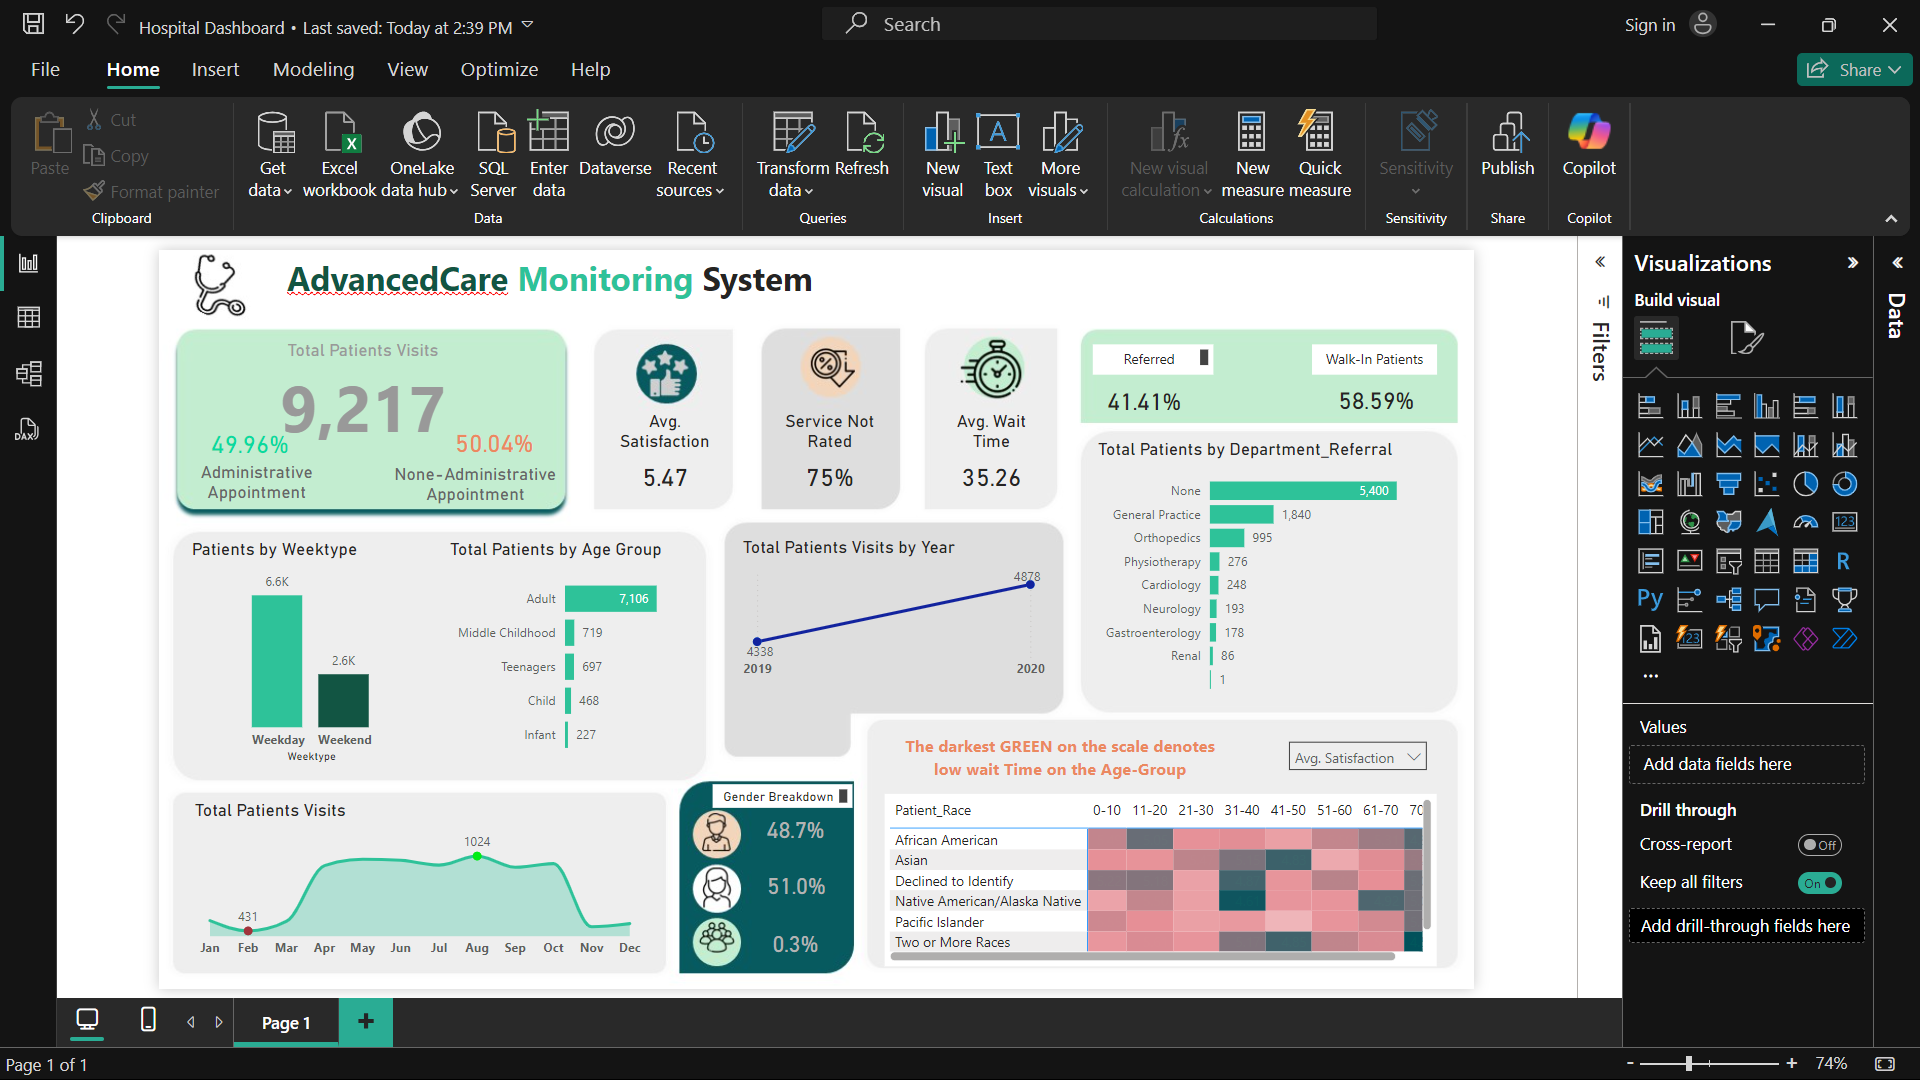

What the dashboard file says about the page in this screenshot:
{"tool":"powerbi","page":{"name":"Page 1","canvas":[1280,720],"ordinal":0},"visuals":[{"type":"card","title":"Total Patients Visits","fields":{"Values":["calculations.Total Patients"]},"box":[89.2,87.8,218.9,104.1],"z":0},{"type":"card","fields":{"Values":["calculations.% Administrative Schedule"]},"box":[270.3,167.6,112.2,39.2],"z":1000},{"type":"card","fields":{"Values":["calculations.% None - Administrative Schedule"]},"box":[44.6,164.9,87.8,47.3],"z":2000},{"type":"card","fields":{"Values":["calculations.% Refered Patients"]},"box":[909.5,129.7,100,35.1],"z":3000},{"type":"card","fields":{"Values":["calculations.% Un Refered Patients"]},"box":[1125.7,128.4,118.9,36.5],"z":4000},{"type":"pivotTable","fields":{"Values":["Patients Dataset.Average Satisfaction Score"],"Rows":["Patients Dataset.Patient_Race"],"Columns":["Patients Dataset.Age Buckets"]},"box":[706.8,529.7,537.8,167.6],"z":5000},{"type":"slicer","fields":{"Values":["Parameter.Parameter"]},"box":[1090.5,468.9,154.1,51.4],"z":6000},{"type":"clusteredBarChart","fields":{"Category":["Patients Dataset.Age Group"],"Y":["calculations.Total Patients"]},"box":[278.4,281.1,241.9,223],"z":7000},{"type":"areaChart","title":"Total Patients Visits ","fields":{"Category":["Date.Month"],"Y":["calculations.Total Patients","Patients Dataset.Values Max Point (Month)"]},"box":[29.7,535.1,448.6,162.2],"z":8000},{"type":"lineChart","title":"Total Patients Visits by Year","fields":{"Y":["calculations.Total Patients","calculations.Values Max Point (Year)"],"Category":["Date.Year"]},"box":[563.5,279.7,304.1,145.9],"z":9000},{"type":"barChart","fields":{"Y":["calculations.Total Patients"],"Category":["Patients Dataset.Department_Referral"]},"box":[909.5,183.8,335.1,258.1],"z":10000},{"type":"card","fields":{"Values":["calculations.HitMap Caption"]},"box":[697.3,460.8,360.8,64.9],"z":11000},{"type":"textbox","box":[24.3,201.4,141.9,52.7],"z":12000},{"type":"textbox","box":[216.2,202.7,183.8,50],"z":13000},{"type":"card","title":"Avg. Satisfaction","fields":{"Values":["Patients Dataset.Average Satisfaction Score"]},"box":[436.5,156.8,112.2,89.2],"z":14000},{"type":"card","title":"Avg. Wait Time","fields":{"Values":["calculations.Average Wait Time"]},"box":[754.1,156.8,113.5,89.2],"z":15000},{"type":"card","title":"Service Not Rated","fields":{"Values":["calculations.% No Rating"]},"box":[600,156.8,106.8,89.2],"z":16000},{"type":"textbox","box":[909.5,91.9,117.6,29.7],"z":17000},{"type":"textbox","box":[1123,91.9,121.6,29.7],"z":18000},{"type":"clusteredColumnChart","title":"Patients by Weektype","fields":{"Y":["calculations.Total Patients"],"Category":["Date.Weektype"]},"box":[27,281.1,243.2,223],"z":19000},{"type":"card","fields":{"Values":["calculations.% Female Visit"]},"box":[583.8,547.3,71.6,35.1],"z":20000},{"type":"card","fields":{"Values":["calculations.% Male Visit"]},"box":[583.8,601.4,73,36.5],"z":21000},{"type":"card","fields":{"Values":["calculations.% Unknown"]},"box":[583.8,654.1,71.6,43.2],"z":22000},{"type":"textbox","box":[539.2,520.3,136.5,23],"z":23000},{"type":"textbox","box":[95.9,0,771.6,64.9],"z":23001}]}

Visuals, with their boxes on the page's 1280x720 design canvas (x1, y1, x2, y2). These are canvas units, not pixel positions in the 1920x1080 screenshot, which may show the page scaled, cropped or inside an application window:
"Total Patients Visits" card: (left=89, top=88, right=308, bottom=192)
card - calculations.% Administrative Schedule: (left=270, top=168, right=382, bottom=207)
card - calculations.% None - Administrative Schedule: (left=45, top=165, right=132, bottom=212)
card - calculations.% Refered Patients: (left=910, top=130, right=1010, bottom=165)
card - calculations.% Un Refered Patients: (left=1126, top=128, right=1245, bottom=165)
pivotTable - Patients Dataset.Average Satisfaction Score x Patients Dataset.Patient_Race: (left=707, top=530, right=1245, bottom=697)
slicer - Parameter.Parameter: (left=1090, top=469, right=1245, bottom=520)
clusteredBarChart - Patients Dataset.Age Group x calculations.Total Patients: (left=278, top=281, right=520, bottom=504)
"Total Patients Visits " areaChart: (left=30, top=535, right=478, bottom=697)
"Total Patients Visits by Year" lineChart: (left=564, top=280, right=868, bottom=426)
barChart - calculations.Total Patients x Patients Dataset.Department_Referral: (left=910, top=184, right=1245, bottom=442)
card - calculations.HitMap Caption: (left=697, top=461, right=1058, bottom=526)
textbox: (left=24, top=201, right=166, bottom=254)
textbox: (left=216, top=203, right=400, bottom=253)
"Avg. Satisfaction" card: (left=436, top=157, right=549, bottom=246)
"Avg. Wait Time" card: (left=754, top=157, right=868, bottom=246)
"Service Not Rated" card: (left=600, top=157, right=707, bottom=246)
textbox: (left=910, top=92, right=1027, bottom=122)
textbox: (left=1123, top=92, right=1245, bottom=122)
"Patients by Weektype" clusteredColumnChart: (left=27, top=281, right=270, bottom=504)
card - calculations.% Female Visit: (left=584, top=547, right=655, bottom=582)
card - calculations.% Male Visit: (left=584, top=601, right=657, bottom=638)
card - calculations.% Unknown: (left=584, top=654, right=655, bottom=697)
textbox: (left=539, top=520, right=676, bottom=543)
textbox: (left=96, top=0, right=868, bottom=65)
